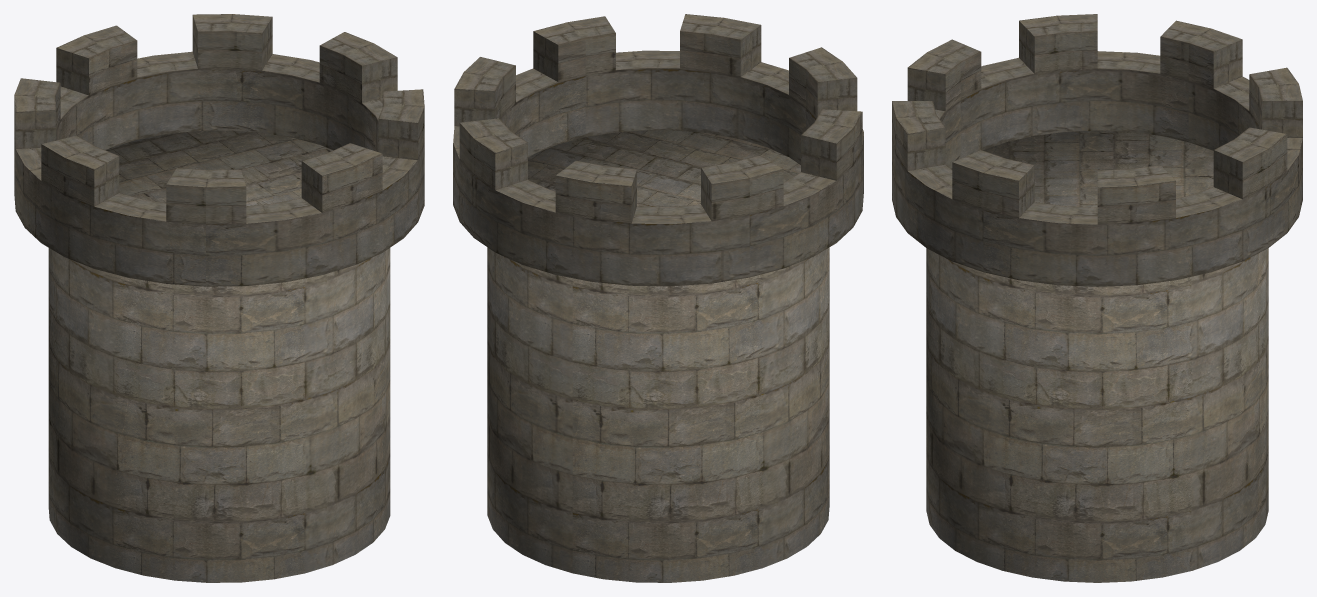
File: Tower.fbx
The picture shows the model from 3 angles, left to right: view 1: azimuth 30°, elevation 25°; view 2: azimuth 150°, elevation 25°; view 3: azimuth 270°, elevation 25°; orthographic projection.
Parts seen in each view (by area): view 1: FoudationTower, HeadTower; view 2: FoudationTower, HeadTower; view 3: FoudationTower, HeadTower.
Part boxes in pixels (x1,y1,x2,y2): FoudationTower: (48,130,390,582); HeadTower: (14,14,424,286); FoudationTower: (487,130,829,582); HeadTower: (453,14,863,286); FoudationTower: (926,130,1268,582); HeadTower: (892,14,1302,286).
Bounding box in the file's own units: 240 × 264 × 240.
